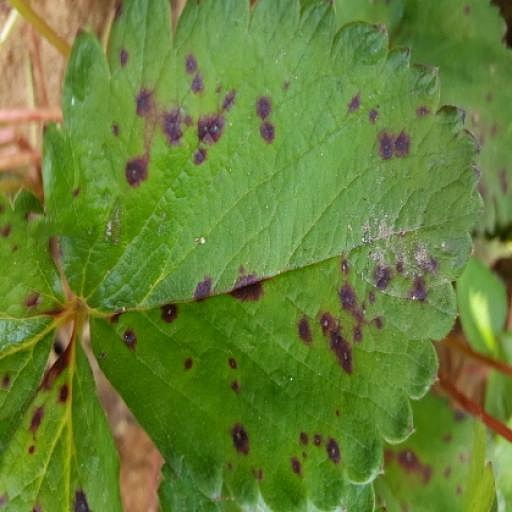Leaf Spot: (42, 0, 486, 511), (388, 278, 511, 511), (0, 64, 71, 321), (371, 0, 496, 116)
